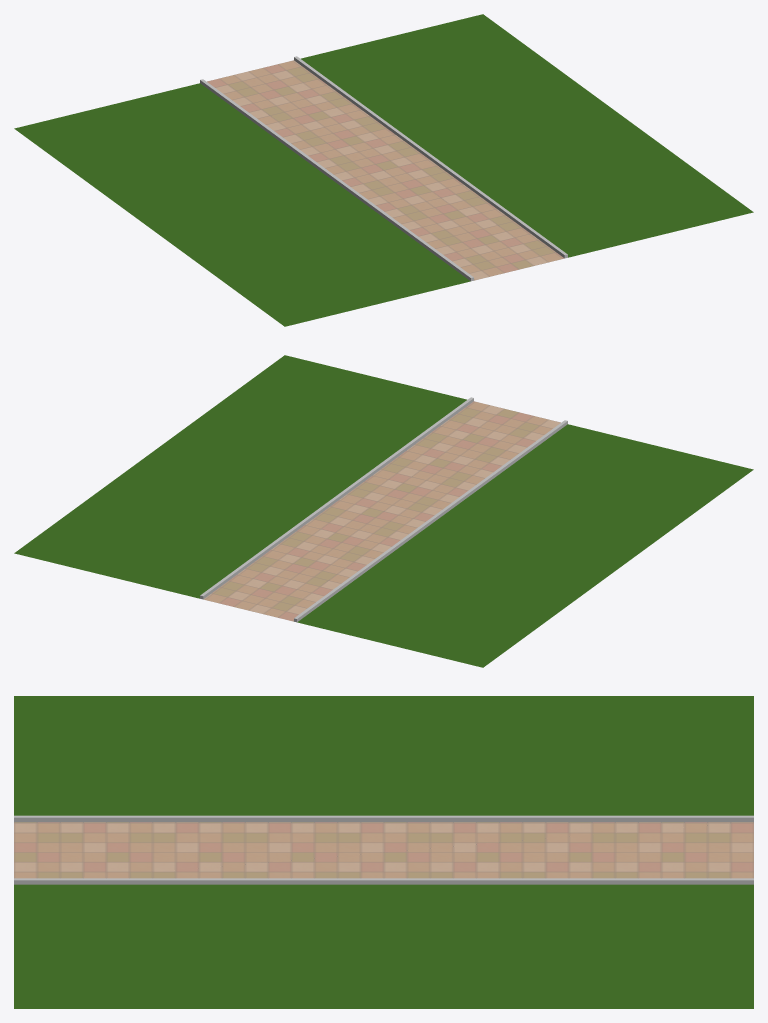
The model's file is Park_Sidewalk_02.fbx.
The picture shows the model from 3 angles, top to bottom: view 1: azimuth 30°, elevation 25°; view 2: azimuth 150°, elevation 25°; view 3: azimuth 270°, elevation 25°; orthographic projection. The views are drawn at different scales.
Parts seen in each view (by area): view 1: Park_Sidewalk_02; view 2: Park_Sidewalk_02; view 3: Park_Sidewalk_02.
Boxes of the visible parts, box(x1,y1,x2,y2) form: Park_Sidewalk_02: box(14, 14, 753, 326); Park_Sidewalk_02: box(14, 355, 753, 667); Park_Sidewalk_02: box(14, 696, 753, 1008).
Bounding box in the file's own units: 3000 × 3000 × 20.
